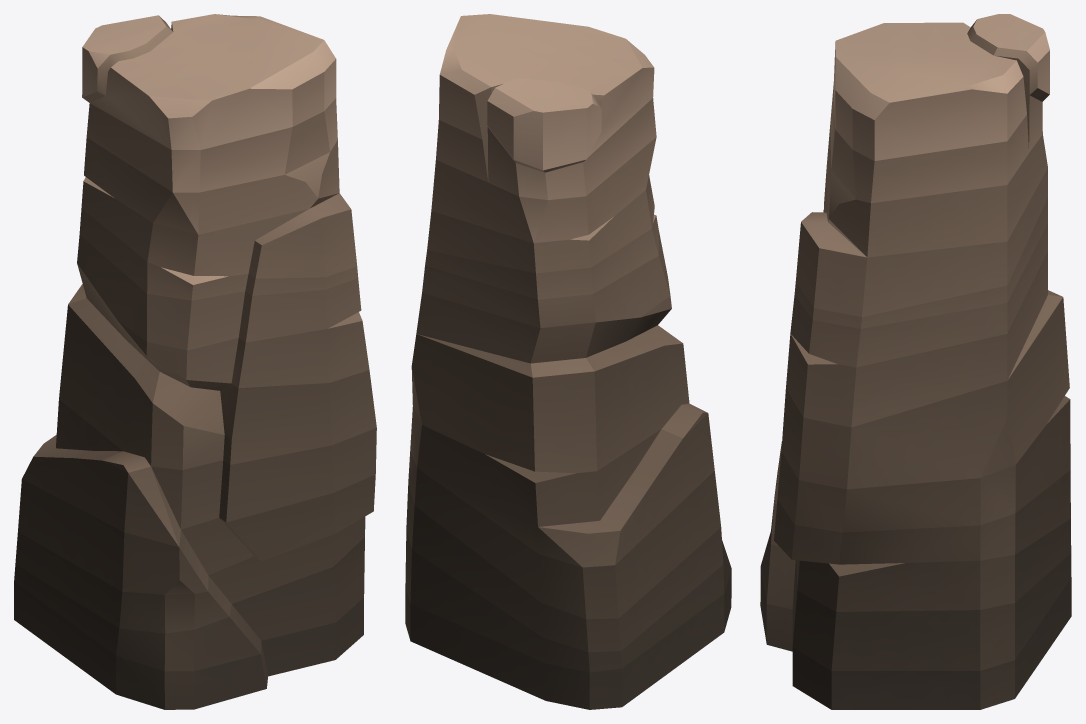
File: Canyon_Wall_4B.fbx
The picture shows the model from 3 angles, left to right: view 1: azimuth 30°, elevation 25°; view 2: azimuth 150°, elevation 25°; view 3: azimuth 270°, elevation 25°; orthographic projection. The views are drawn at different scales.
Parts seen in each view (by area): view 1: Canyon_Wall_4B; view 2: Canyon_Wall_4B; view 3: Canyon_Wall_4B.
Part boxes in pixels (x1,y1,x2,y2): Canyon_Wall_4B: [14, 14, 376, 709]; Canyon_Wall_4B: [405, 14, 731, 709]; Canyon_Wall_4B: [760, 14, 1071, 709].
Size of the model in its own units: 14.67 by 30.95 by 14.48.
